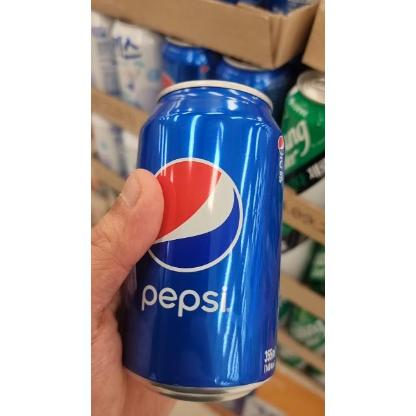Can: (120, 80, 284, 402)
